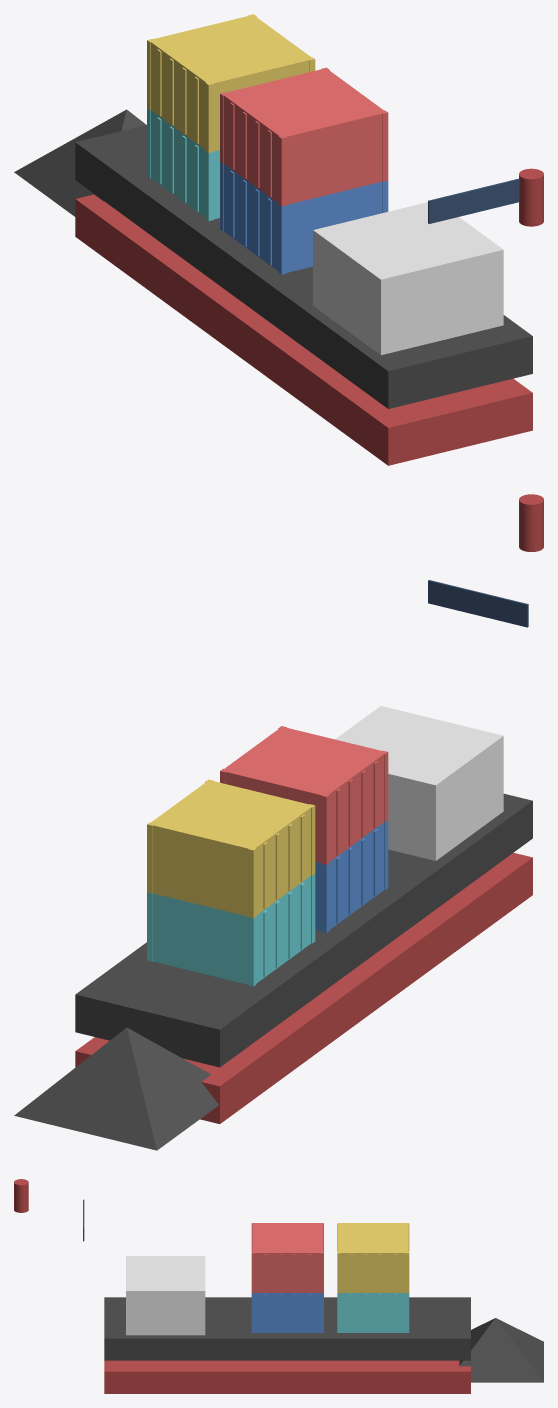
File: buque_carga.glb
3 renders of one model, top to bottom at view 1: azimuth 30°, elevation 25°; view 2: azimuth 150°, elevation 25°; view 3: azimuth 270°, elevation 25°, orthographic. The views are drawn at different scales.
Visible parts, largest first — view 1: Buque_Casco_Negro, Buque_Casco_Rojo, Buque_Cabina, Pila_Rojo, Pila_Amarillo, Pila_Azul, Buque_Proa, Pila_Celeste, Buque_Ventana, Buque_Chimenea, Pila_Rojo_poste_-1_-1, Pila_Amarillo_poste_-1_-1 (+2 smaller); view 2: Buque_Casco_Negro, Buque_Casco_Rojo, Pila_Amarillo, Buque_Cabina, Buque_Proa, Pila_Rojo, Pila_Celeste, Pila_Azul, Buque_Ventana, Buque_Chimenea; view 3: Buque_Casco_Negro, Buque_Casco_Rojo, Buque_Cabina, Pila_Rojo, Pila_Amarillo, Buque_Proa, Pila_Azul, Pila_Celeste, Buque_Chimenea.
Boxes of the visible parts, <box> form: Buque_Casco_Negro: <box>75,125,532,408</box>; Buque_Casco_Rojo: <box>75,194,532,465</box>; Buque_Cabina: <box>313,202,503,355</box>; Pila_Rojo: <box>220,67,383,204</box>; Pila_Amarillo: <box>147,14,312,151</box>; Pila_Azul: <box>220,162,382,272</box>; Buque_Proa: <box>14,109,146,216</box>; Pila_Celeste: <box>147,108,219,219</box>; Buque_Ventana: <box>428,178,518,223</box>; Buque_Chimenea: <box>519,168,543,226</box>; Pila_Rojo_poste_-1_-1: <box>278,135,286,206</box>; Pila_Amarillo_poste_-1_-1: <box>205,82,213,152</box>; Buque_Casco_Negro: <box>75,793,532,1067</box>; Buque_Casco_Rojo: <box>75,852,532,1123</box>; Pila_Amarillo: <box>147,780,310,918</box>; Buque_Cabina: <box>335,706,503,860</box>; Buque_Proa: <box>14,1027,218,1150</box>; Pila_Rojo: <box>220,727,384,864</box>; Pila_Celeste: <box>147,876,310,986</box>; Pila_Azul: <box>315,822,384,932</box>; Buque_Ventana: <box>428,580,528,627</box>; Buque_Chimenea: <box>519,494,543,551</box>; Buque_Casco_Negro: <box>104,1297,470,1360</box>; Buque_Casco_Rojo: <box>104,1360,470,1393</box>; Buque_Cabina: <box>126,1256,205,1335</box>; Pila_Rojo: <box>252,1223,323,1293</box>; Pila_Amarillo: <box>338,1223,409,1293</box>; Buque_Proa: <box>459,1318,543,1382</box>; Pila_Azul: <box>255,1293,323,1332</box>; Pila_Celeste: <box>341,1293,409,1332</box>; Buque_Chimenea: <box>14,1179,28,1212</box>.
Bounding box in the file's own units: 0.8 × 1.73 × 4.34.
